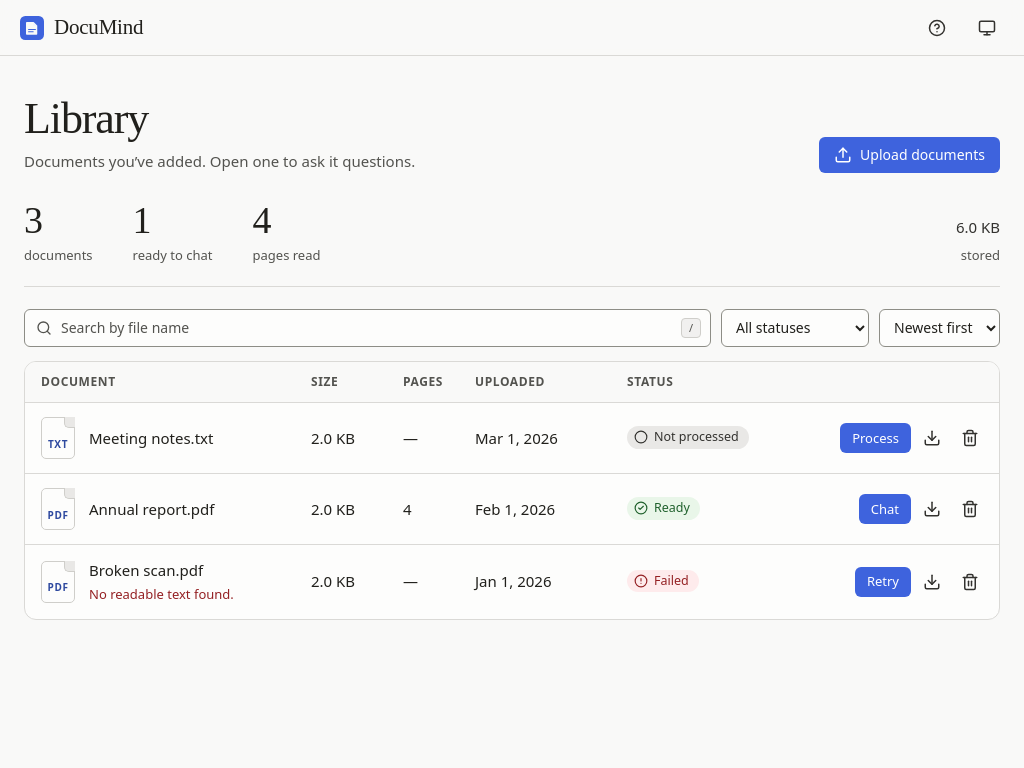
LibraryPage › searches, filters and shows a no-match state that can be cleared
The image size is (1024, 768).
Expected: the link "Annual report.pdf" is shown, [89,498,214,518]
Step 1. Type "meeting" into the search field named "search documents" → coordinates (368, 328), box [24,309,711,347]
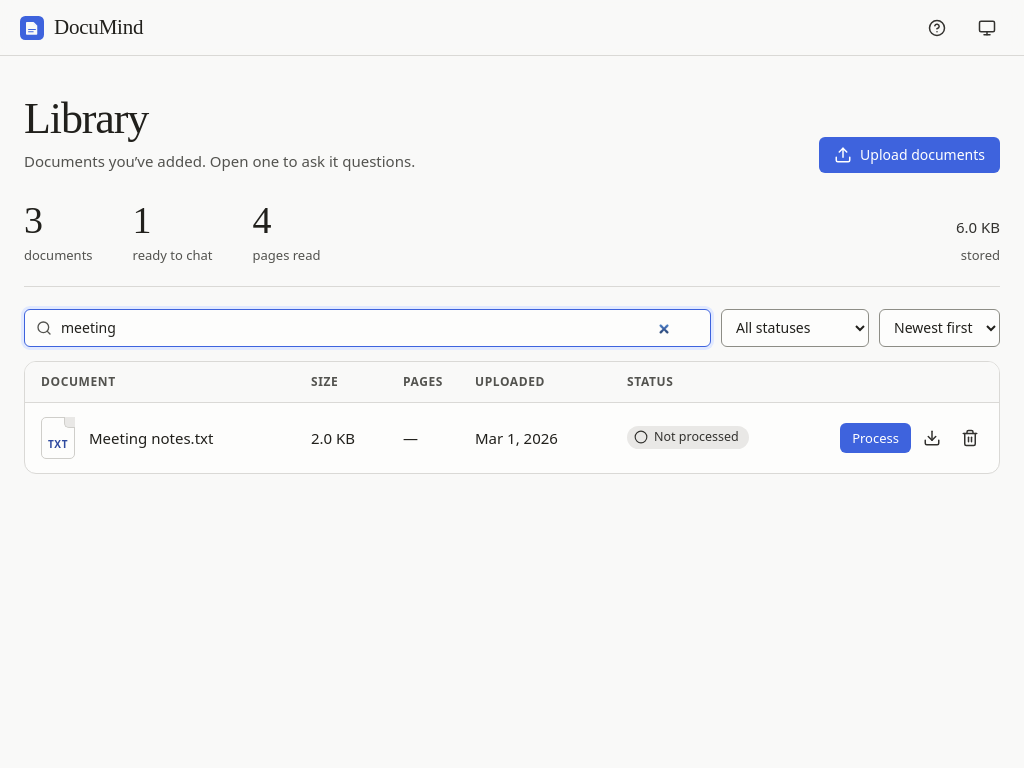
Expected: the link "Meeting notes.txt" is shown, [89,428,213,448]
Expected: the link "Annual report.pdf" is gone
Step 2. Clear the search field → coordinates (368, 328), box [24,309,711,347]
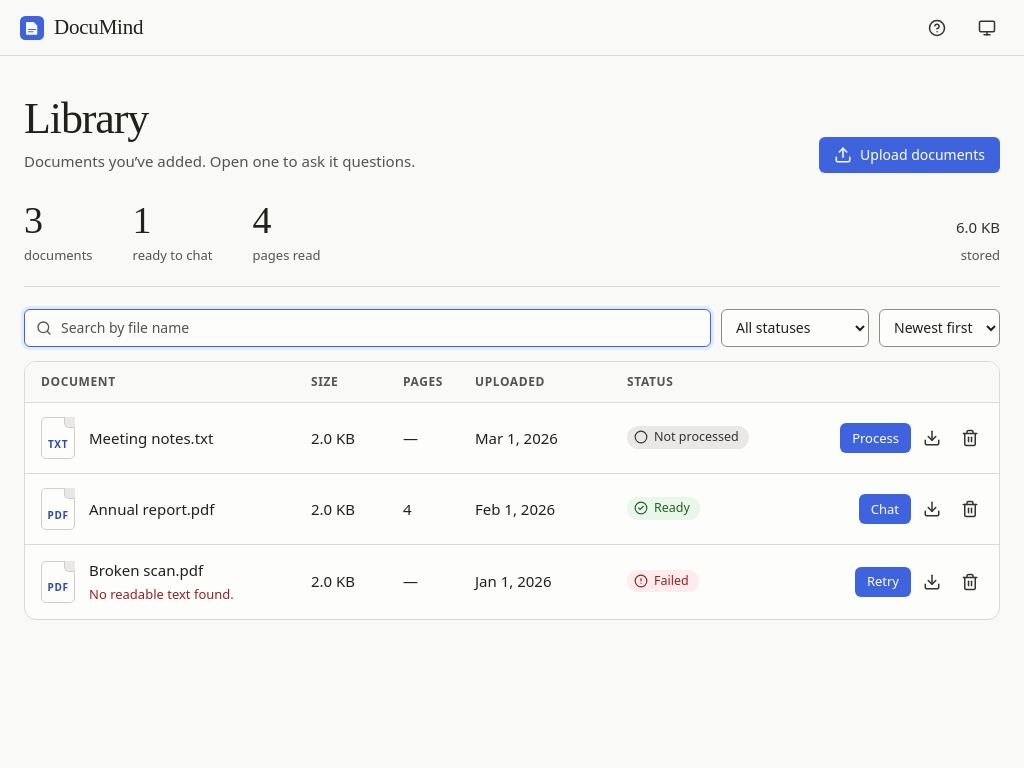
Step 3. Select "Needs attention" in the dropdown named "filter by status" → coordinates (795, 328), box [721,309,869,347]
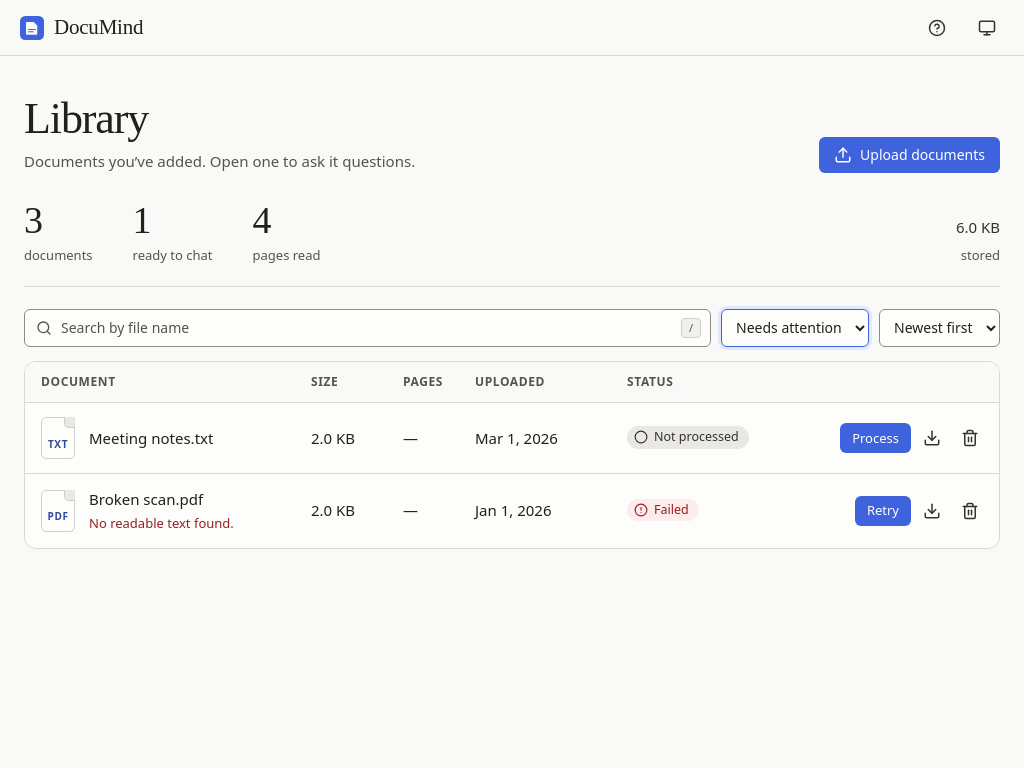
Expected: the link "Broken scan.pdf" is shown, [89,489,203,509]
Expected: the link "Annual report.pdf" is gone
Step 4. Type "zzz" into the search field → coordinates (368, 328), box [24,309,711,347]
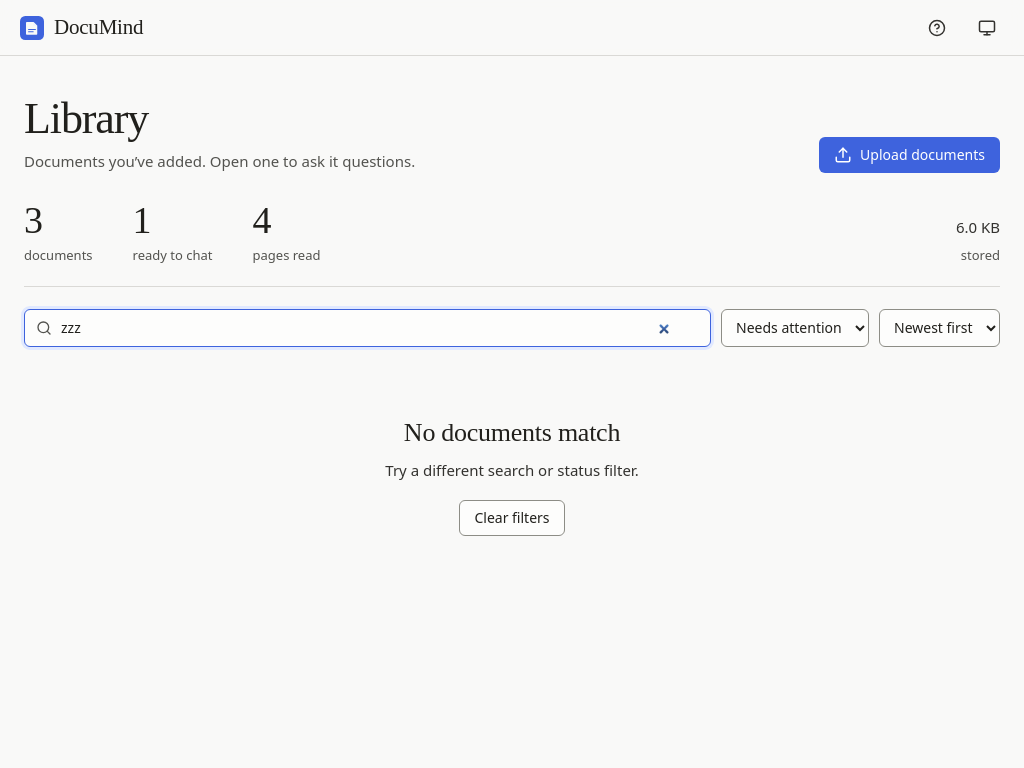
Expected: the heading "No documents match" is shown, [404,417,620,449]
Step 5. Click the button "Clear filters" → coordinates (512, 518), box [459,500,564,536]
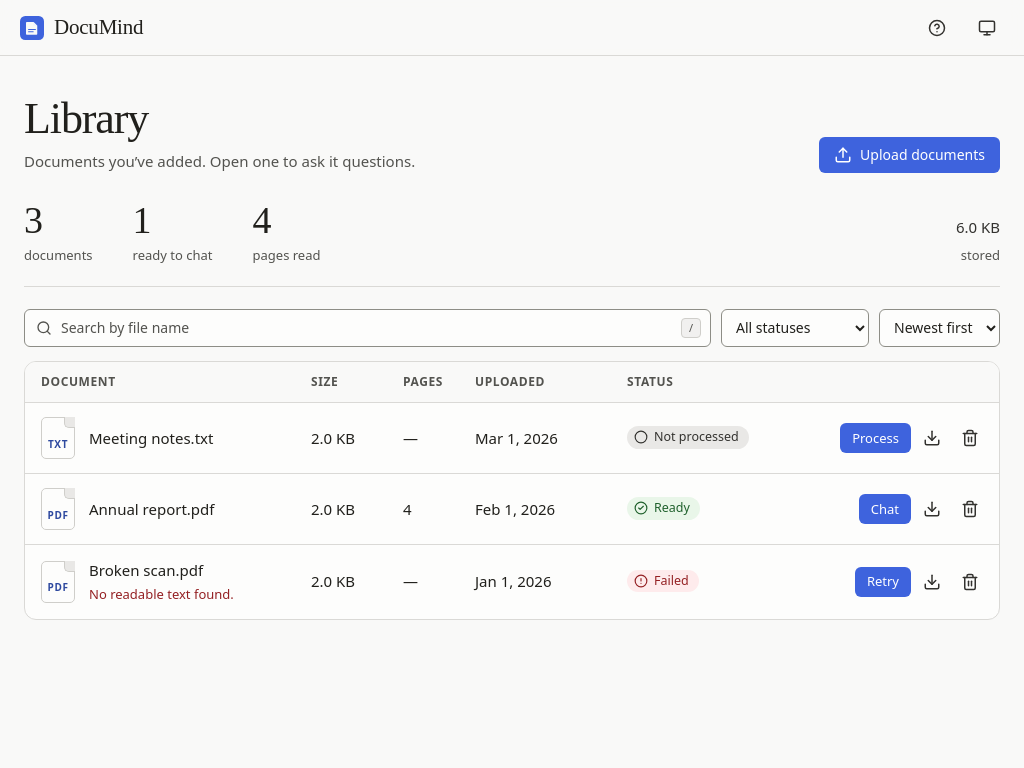
Expected: the link "Meeting notes.txt" is shown, [89,428,213,448]
